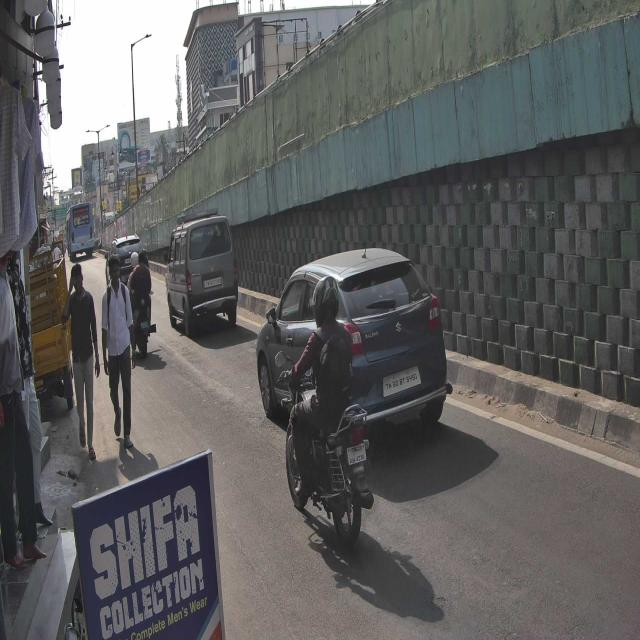single_rider: (270, 270, 374, 548)
